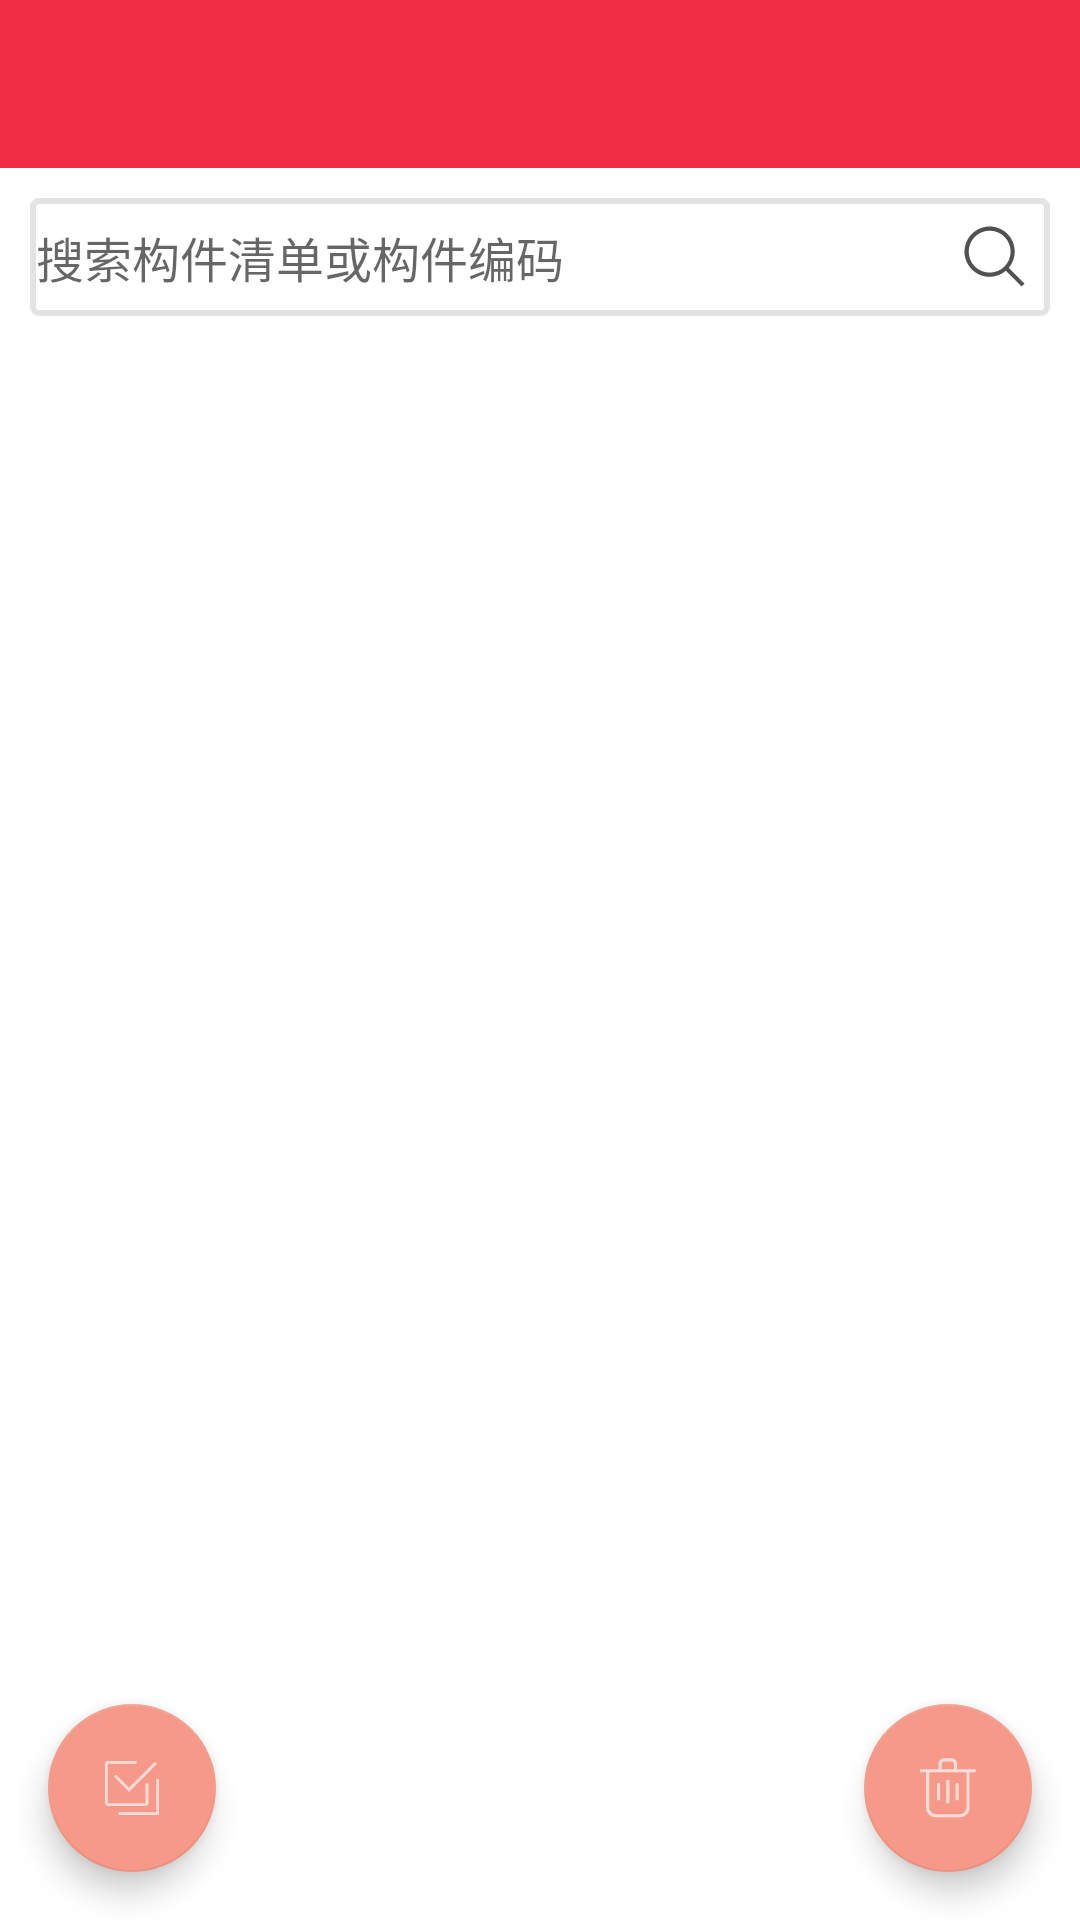

Icon bounding boxes for this 1080x1920 phone screenshot, format (x1, y1, x2, y2):
choose all: (48, 1704, 216, 1872)
proline del: (864, 1704, 1032, 1872)
search: (964, 226, 1025, 287)
